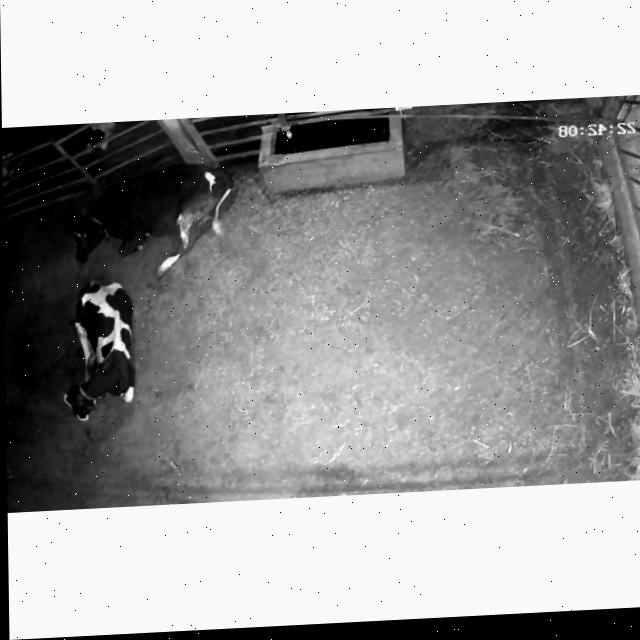lay: (55, 146, 244, 283), (48, 268, 151, 437)
